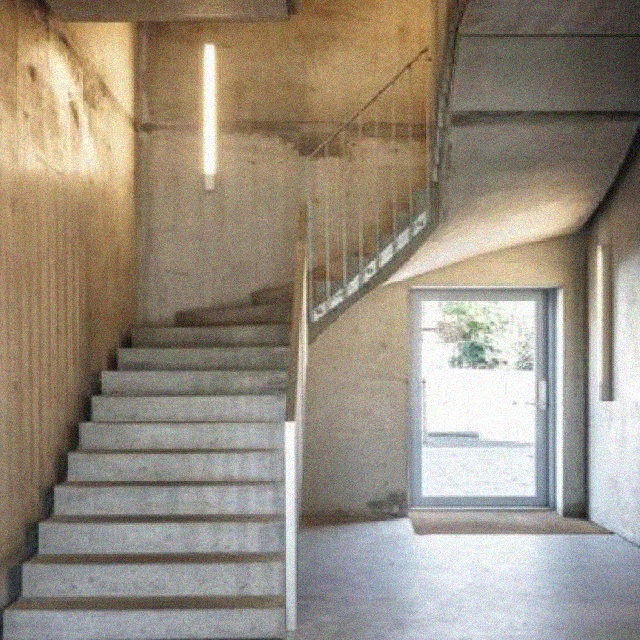stair: (2, 43, 424, 639)
